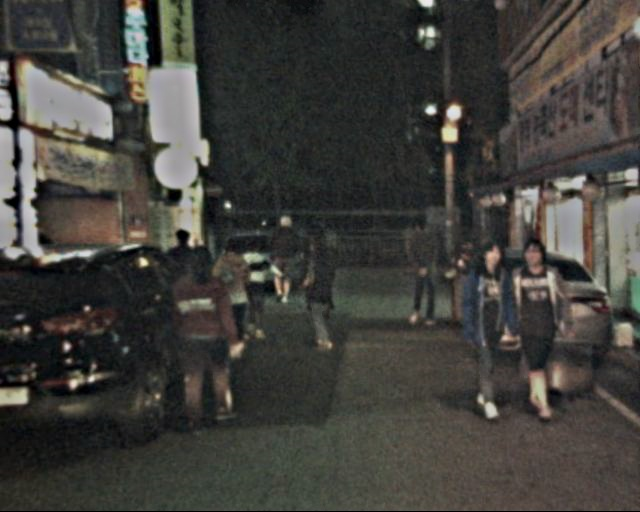person: (165, 246, 241, 432), (495, 238, 574, 416), (453, 241, 526, 418), (153, 228, 211, 355), (205, 236, 259, 355), (297, 232, 344, 355), (403, 212, 446, 329), (234, 238, 276, 340), (264, 206, 305, 306)
